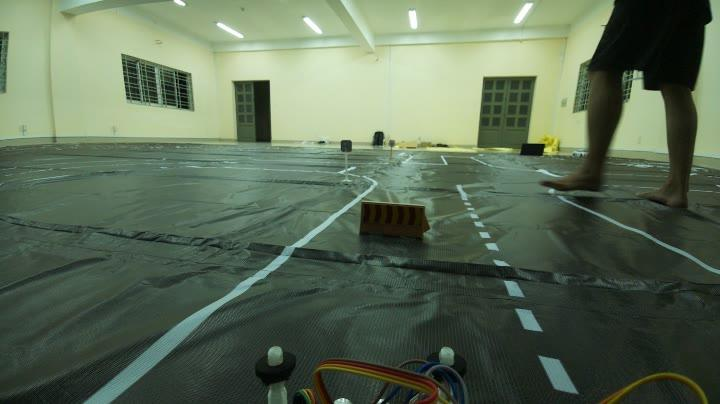roadblock: (352, 195, 444, 257)
